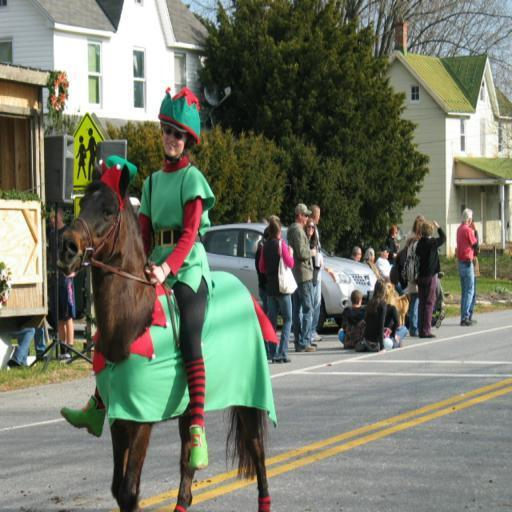horse: (56, 162, 272, 511)
